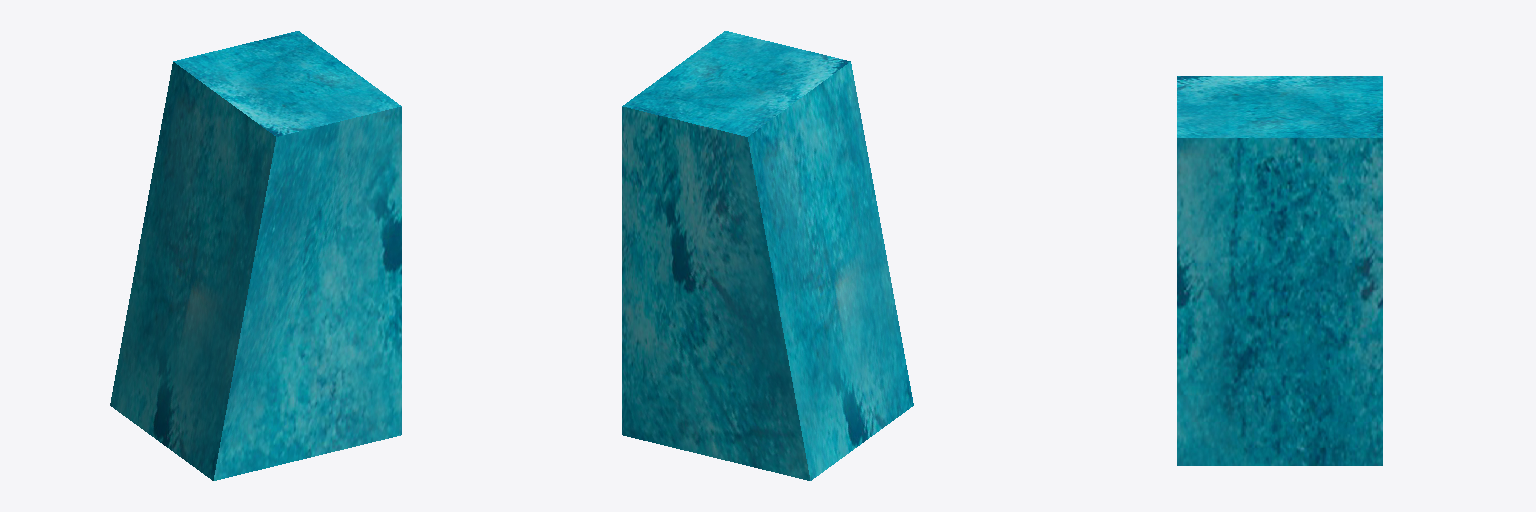
3 renders of one model, left to right at view 1: azimuth 30°, elevation 25°; view 2: azimuth 150°, elevation 25°; view 3: azimuth 270°, elevation 25°, orthographic.
Visible parts, largest first — view 1: cube1; view 2: cube1; view 3: cube1.
Part boxes in pixels (x1,y1,x2,y2): cube1: (110, 31, 401, 480); cube1: (622, 31, 913, 480); cube1: (1177, 76, 1382, 465).
Size of the model in its own units: 3 by 5 by 2.85.
Materials: 1 (1 with a texture image).